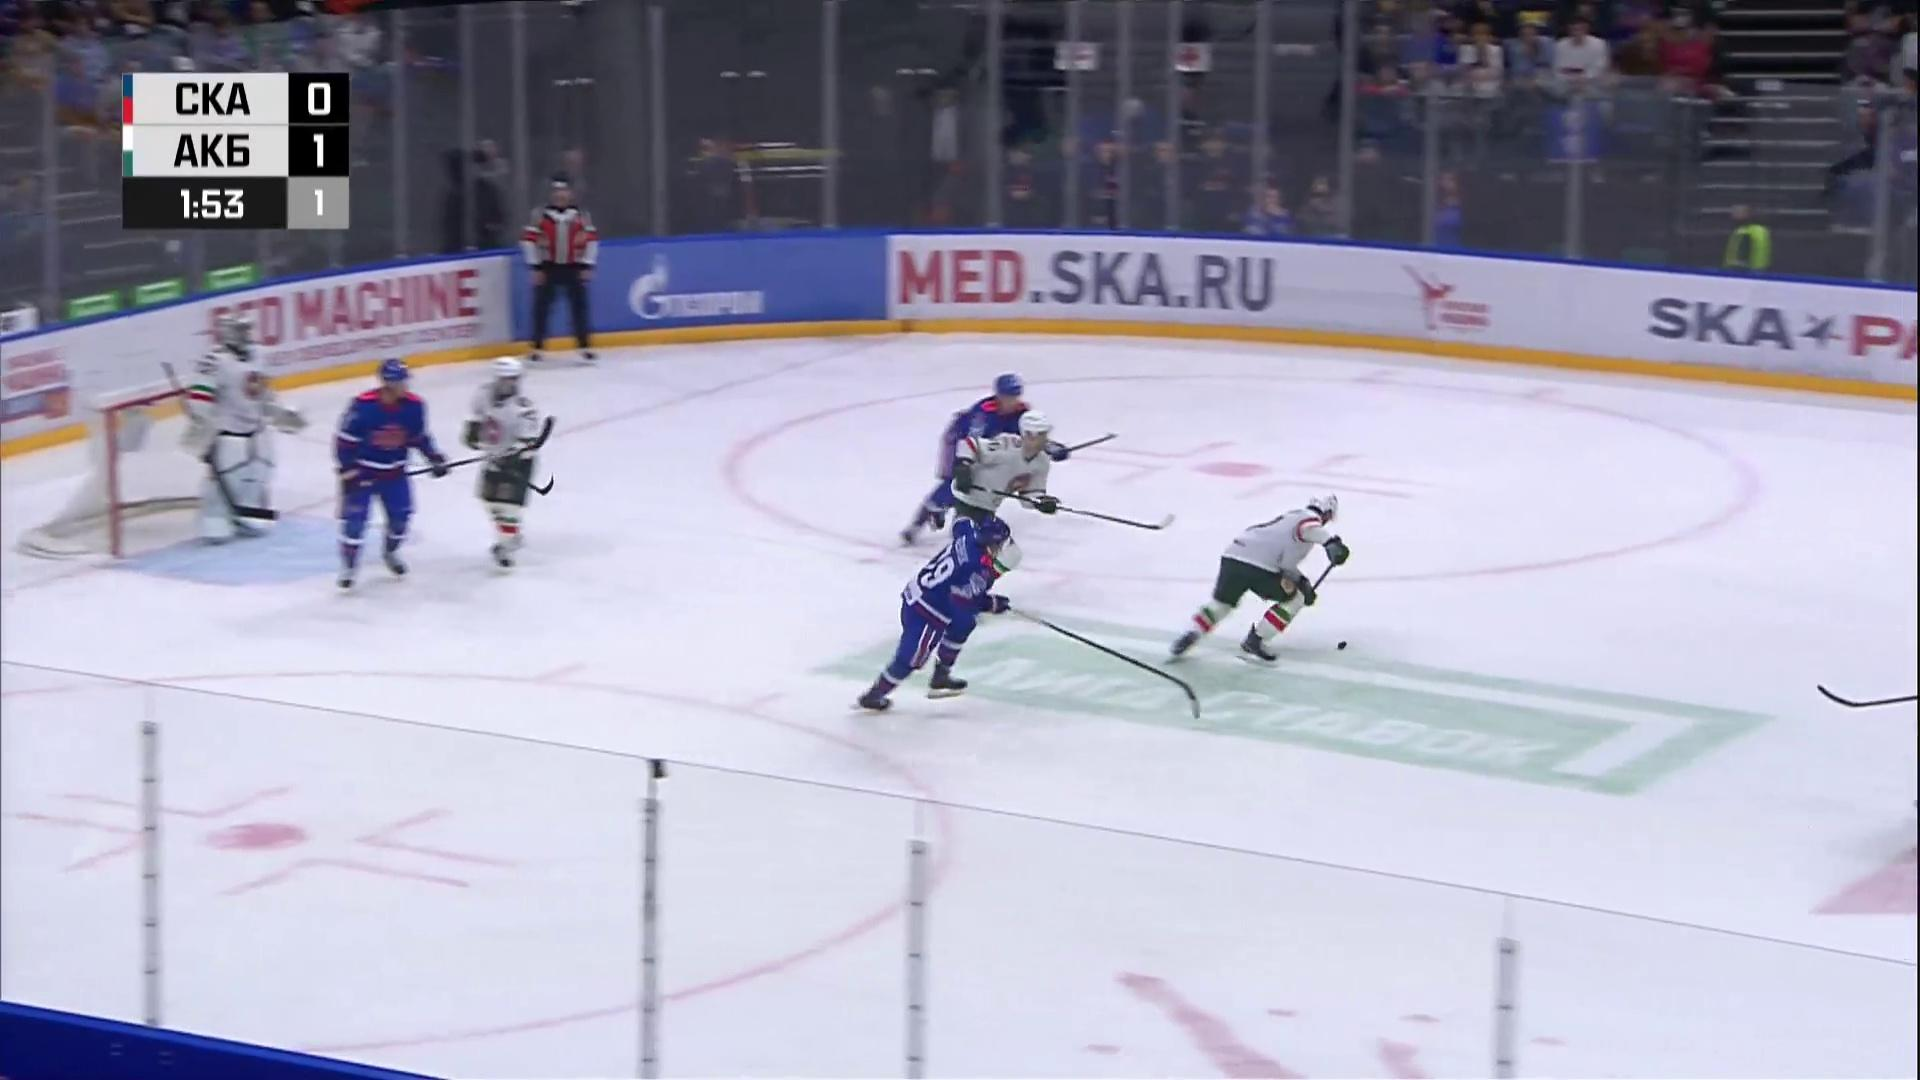ball: (1336, 641, 1348, 651)
